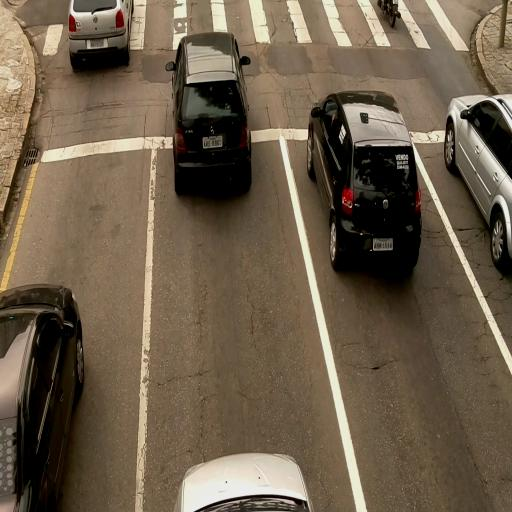car: (307, 87, 418, 272), (0, 285, 85, 511), (166, 31, 252, 195), (444, 92, 512, 271), (172, 452, 312, 510), (66, 2, 132, 68)
motorcycle: (378, 0, 399, 26)
